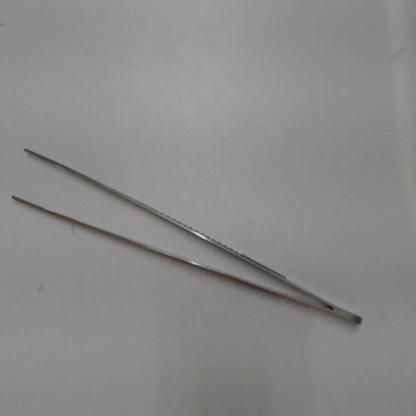DeBakey Dissector: (6, 138, 374, 331)
